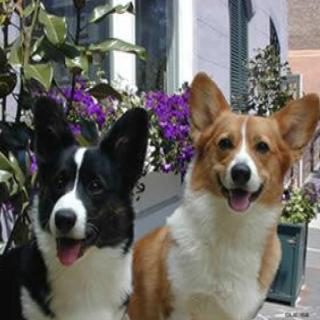dog: (21, 84, 157, 268), (184, 65, 320, 216)
nose: (51, 208, 79, 235), (230, 160, 252, 186)
